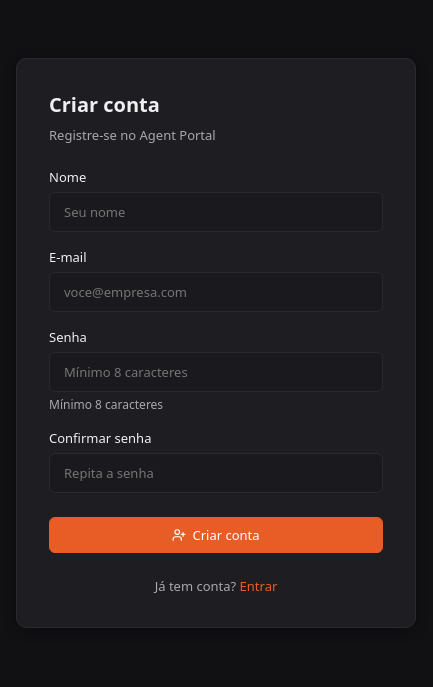
Test: RegisterPage › shows validation error for invalid email
The image size is (433, 687).
Type "invalid" into the field labelled "E-mail" at (216, 292), box [49,272,383,312]
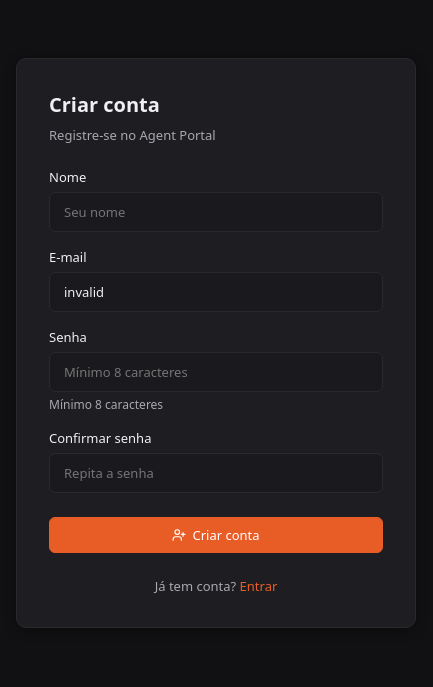
Click the button "Criar conta" at (216, 535), box [49,517,383,553]
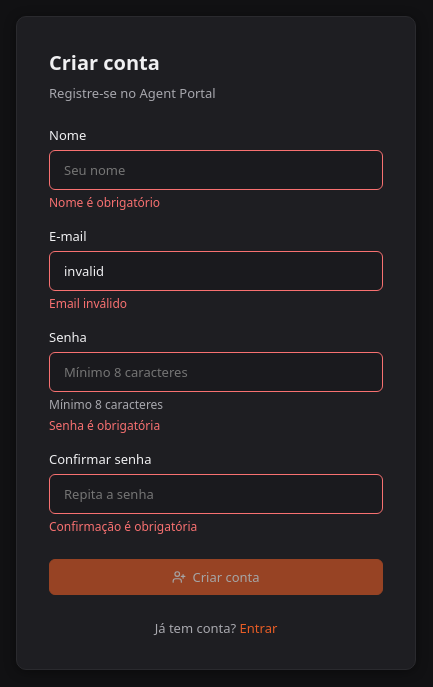
Result: the text "Email inválido" is shown at [49,295,127,312]
